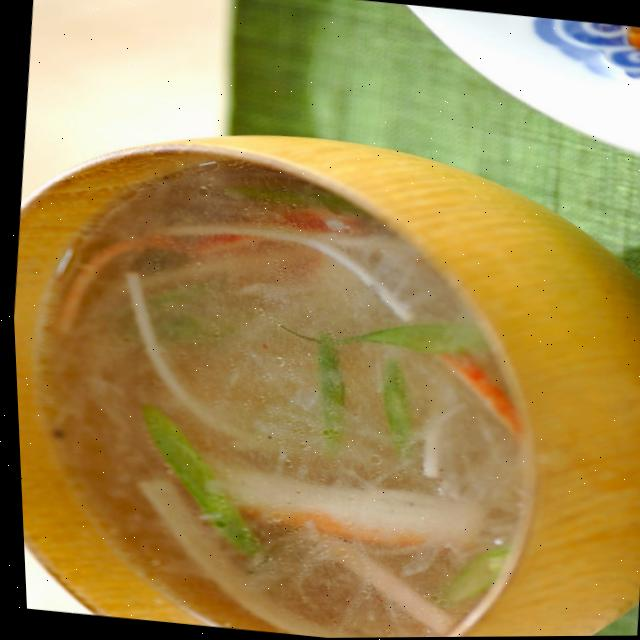汤锅炖物: (3, 93, 640, 640)
